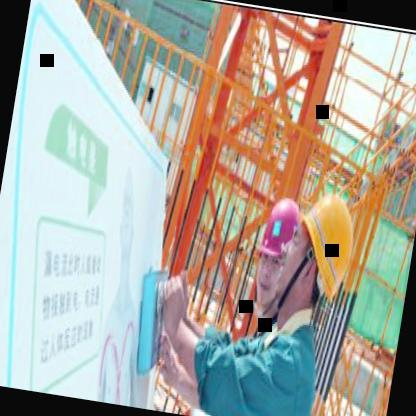helmet: (274, 189, 358, 322), (250, 192, 302, 312)
